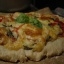pizza: (1, 13, 63, 58)
